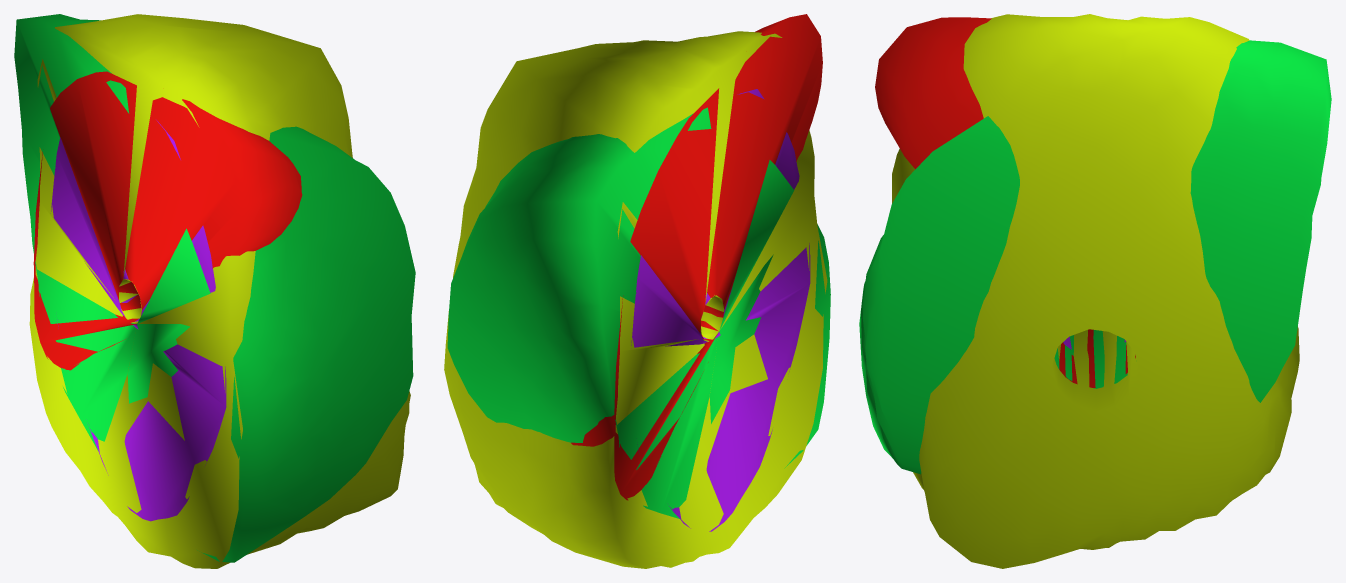
Rendered from climbing_holds.glb.
3 views of the same model, side by side, from view 1: azimuth 30°, elevation 25°; view 2: azimuth 150°, elevation 25°; view 3: azimuth 270°, elevation 25° (orthographic).
Visible parts, largest first — view 1: rock.002, rock, rock.001, rock.003; view 2: rock, rock.002, rock.001, rock.003; view 3: rock, rock.002, rock.001.
Part boxes in pixels (bbox=[...]): rock.002: bbox=[14, 14, 415, 562]; rock: bbox=[29, 14, 410, 568]; rock.001: bbox=[33, 71, 302, 370]; rock.003: bbox=[50, 120, 226, 521]; rock: bbox=[444, 31, 827, 568]; rock.002: bbox=[447, 107, 830, 518]; rock.001: bbox=[571, 14, 822, 500]; rock.003: bbox=[631, 89, 810, 531]; rock: bbox=[892, 14, 1299, 568]; rock.002: bbox=[859, 40, 1331, 474]; rock.001: bbox=[875, 17, 1135, 387].
Size of the model in its own units: 0.6104 by 1.24 by 1.08.
